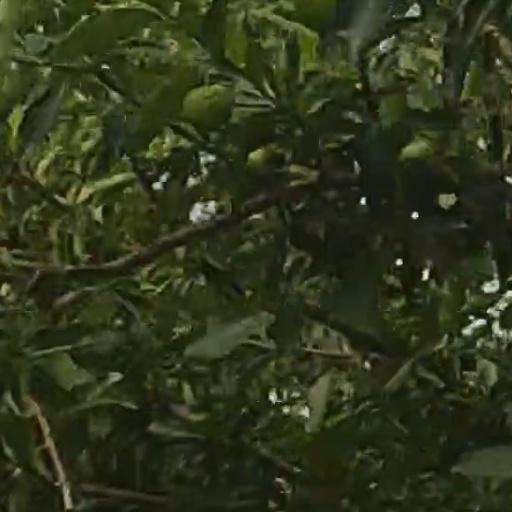acerola_verde: (182, 85, 230, 126)
